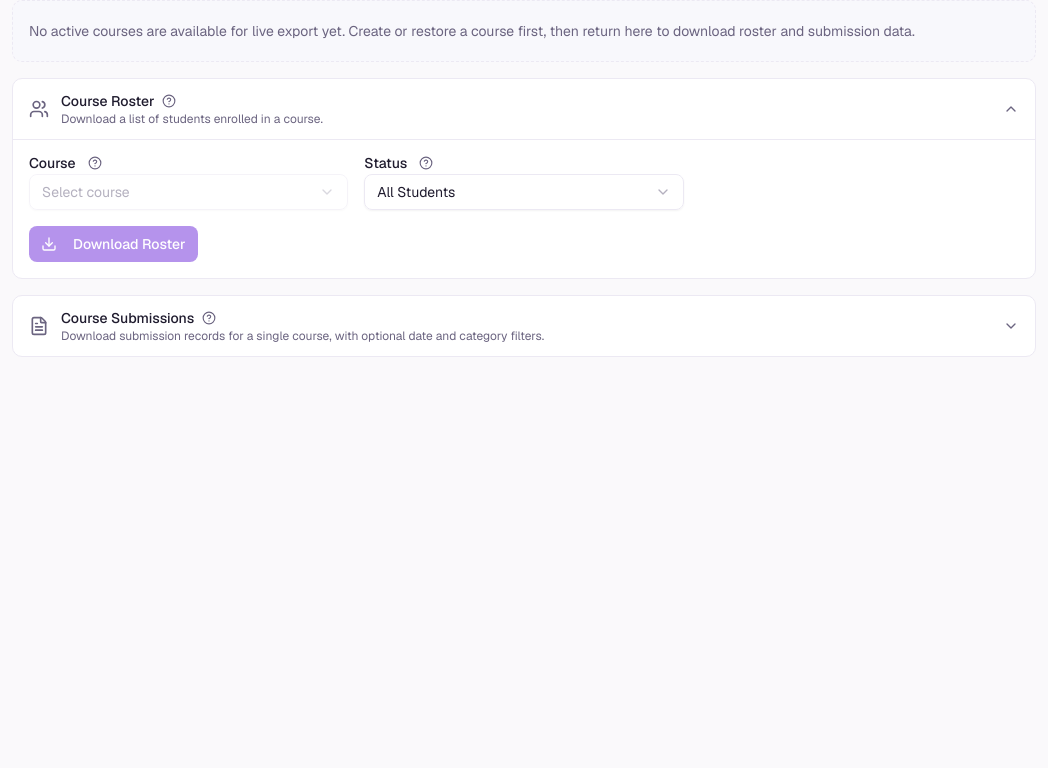
Test: QuickExportTab › shows error toast when trying to download submissions with no course
// Open the Course Submissions card
Click the text "Course Submissions": coordinates (128, 318) x1=61 y1=308 x2=194 y2=328
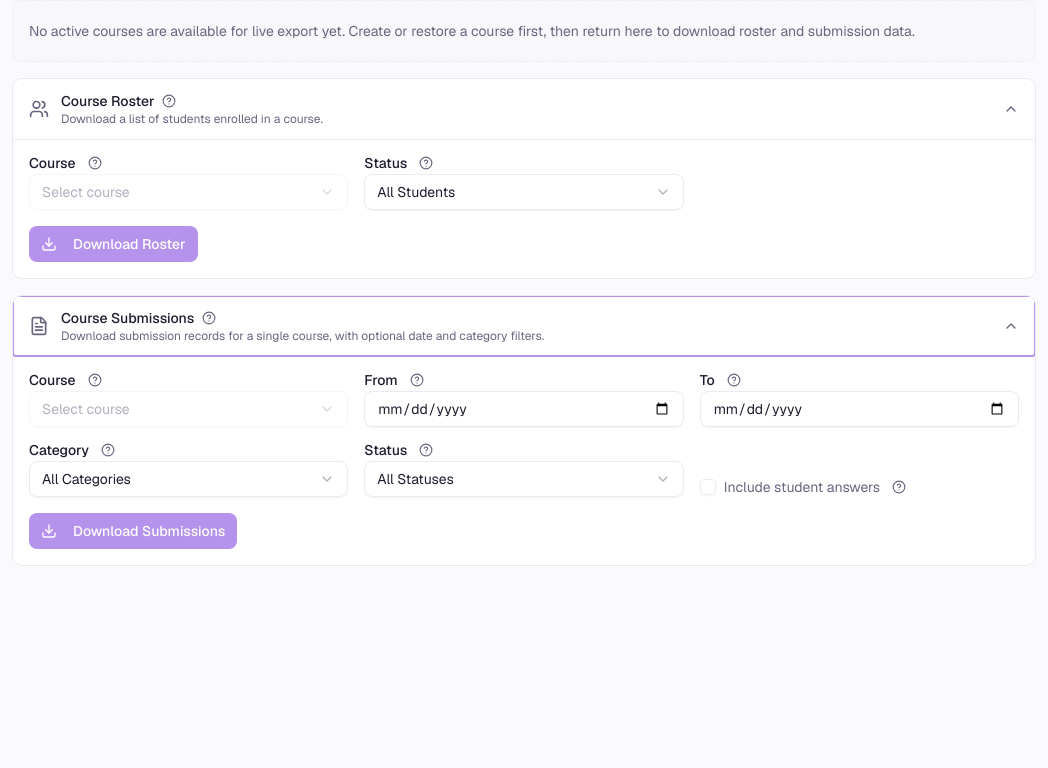
Result: the button "Download Submissions" is disabled at x1=29 y1=513 x2=237 y2=549
